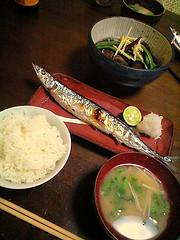rice: (0, 115, 66, 183)
